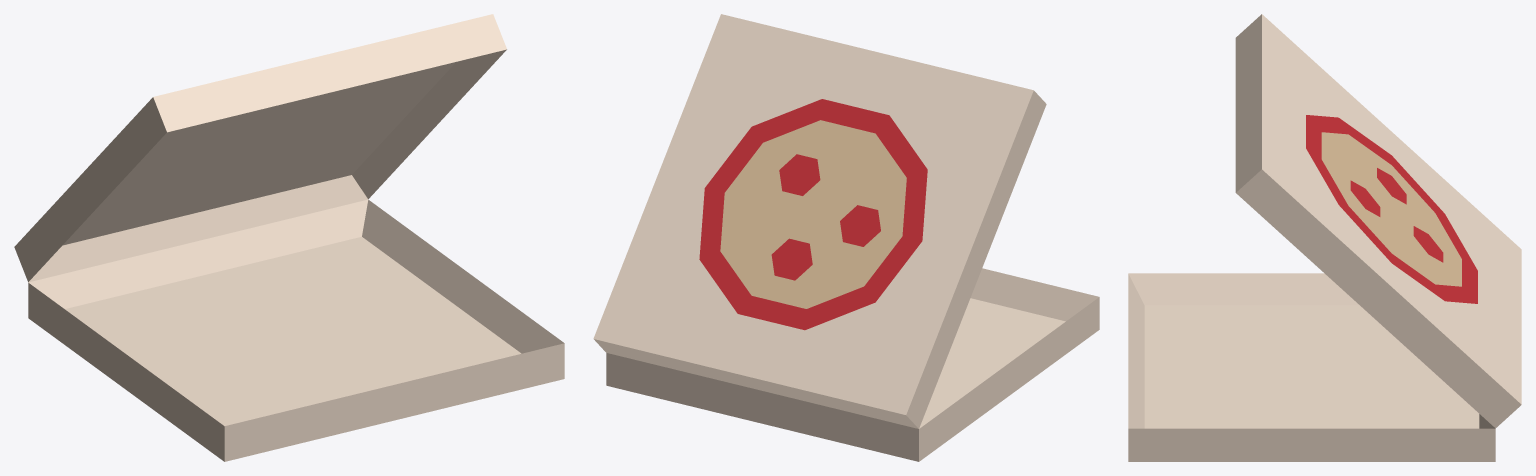
Rendered from pizza-box.glb.
3 views of the same model, side by side, from view 1: azimuth 30°, elevation 25°; view 2: azimuth 150°, elevation 25°; view 3: azimuth 270°, elevation 25° (orthographic). The views are drawn at different scales.
Visible parts, largest first — view 1: pizza-box; view 2: pizza-box; view 3: pizza-box.
Part boxes in pixels (x1,y1,x2,y2): pizza-box: (14,14,564,461); pizza-box: (593,14,1099,461); pizza-box: (1128,14,1521,461).
Size of the model in its own units: 0.4 by 0.3514 by 0.4284.
1 material, 1 textured.
